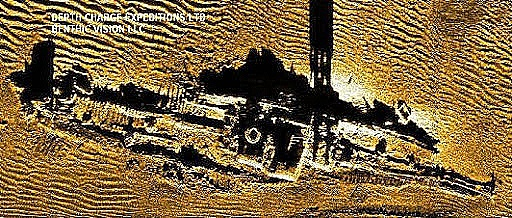ship: (19, 77, 494, 202)
